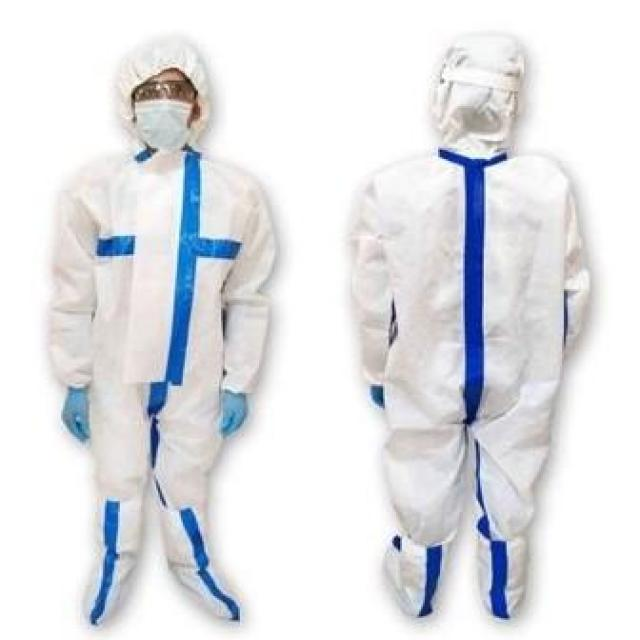Coverall: (27, 39, 293, 635), (335, 37, 596, 605)
Gloves: (44, 364, 116, 448), (223, 382, 268, 437)
Goggles: (126, 77, 211, 113)
Mask: (126, 95, 192, 159)
